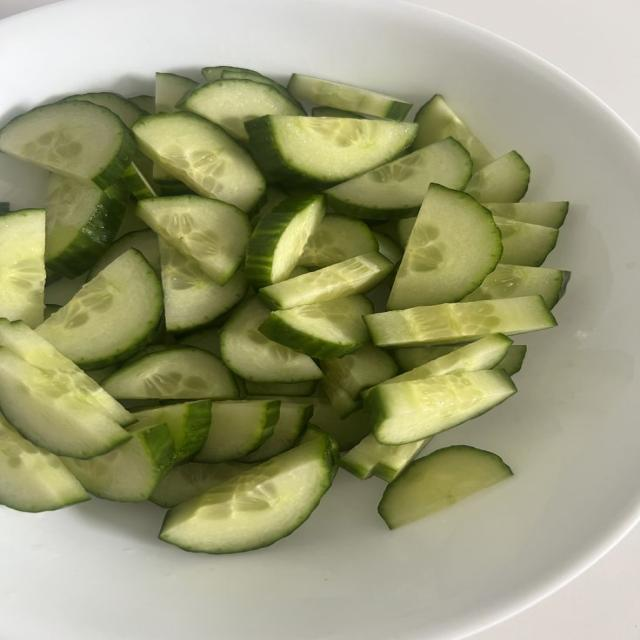cucumber sliced: (160, 438, 334, 553), (37, 249, 162, 369), (0, 319, 135, 426), (387, 184, 502, 309), (0, 348, 130, 457), (133, 112, 265, 211), (246, 116, 417, 187), (326, 138, 472, 219), (0, 101, 134, 187), (379, 445, 513, 529), (365, 370, 516, 444), (136, 196, 250, 285), (364, 296, 556, 347), (0, 414, 89, 512), (220, 297, 321, 382), (63, 423, 173, 501), (45, 174, 125, 278), (159, 239, 247, 332), (260, 252, 393, 309), (180, 79, 304, 140), (246, 196, 325, 288), (103, 346, 239, 399), (260, 296, 373, 358), (380, 334, 512, 384), (382, 335, 511, 384), (414, 95, 493, 170), (287, 74, 413, 120), (320, 344, 397, 418), (0, 209, 46, 327), (194, 400, 279, 463), (134, 400, 212, 464), (202, 66, 305, 114), (463, 264, 570, 308), (149, 462, 248, 508), (242, 399, 313, 462), (340, 434, 430, 482), (320, 344, 397, 398), (299, 214, 378, 266), (89, 229, 160, 279), (466, 151, 530, 202), (494, 216, 558, 266), (310, 398, 371, 450), (64, 92, 147, 127), (374, 438, 431, 482), (484, 202, 568, 228), (298, 425, 339, 476), (201, 66, 285, 90), (152, 73, 199, 112), (121, 153, 159, 199), (394, 345, 460, 371), (393, 345, 459, 371), (322, 377, 361, 418), (251, 186, 288, 228), (152, 164, 194, 196), (246, 380, 318, 397), (178, 327, 219, 356), (374, 231, 403, 264), (495, 346, 526, 376), (201, 66, 261, 81), (312, 106, 363, 118), (396, 217, 416, 247), (87, 365, 117, 384), (128, 95, 155, 114), (44, 304, 60, 319), (0, 202, 10, 215)
